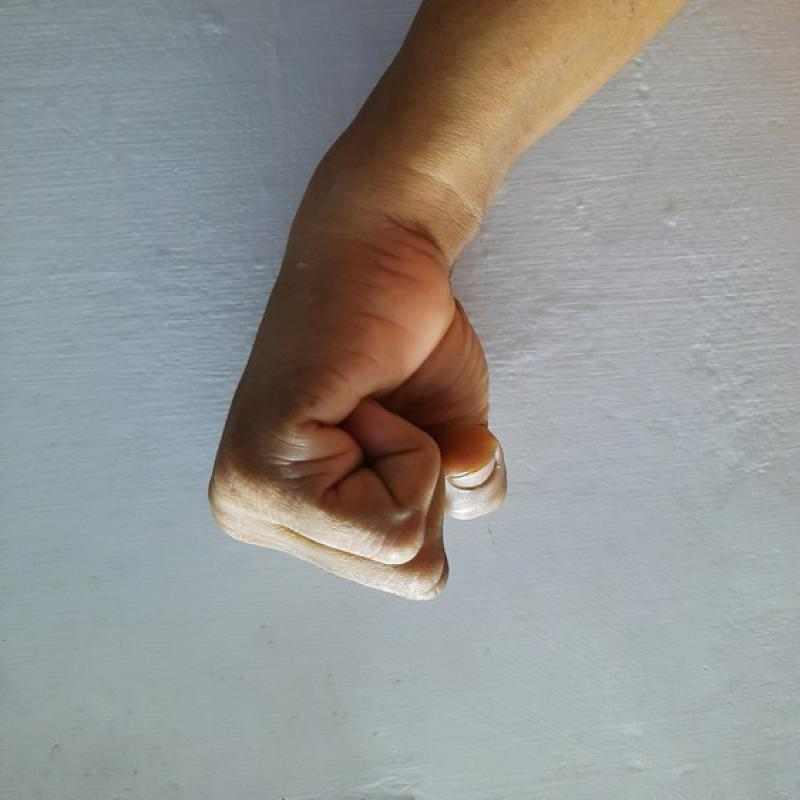Mushti: (196, 227, 530, 609)
